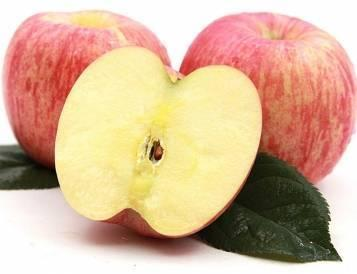apple: (184, 11, 356, 183), (3, 8, 171, 167)
